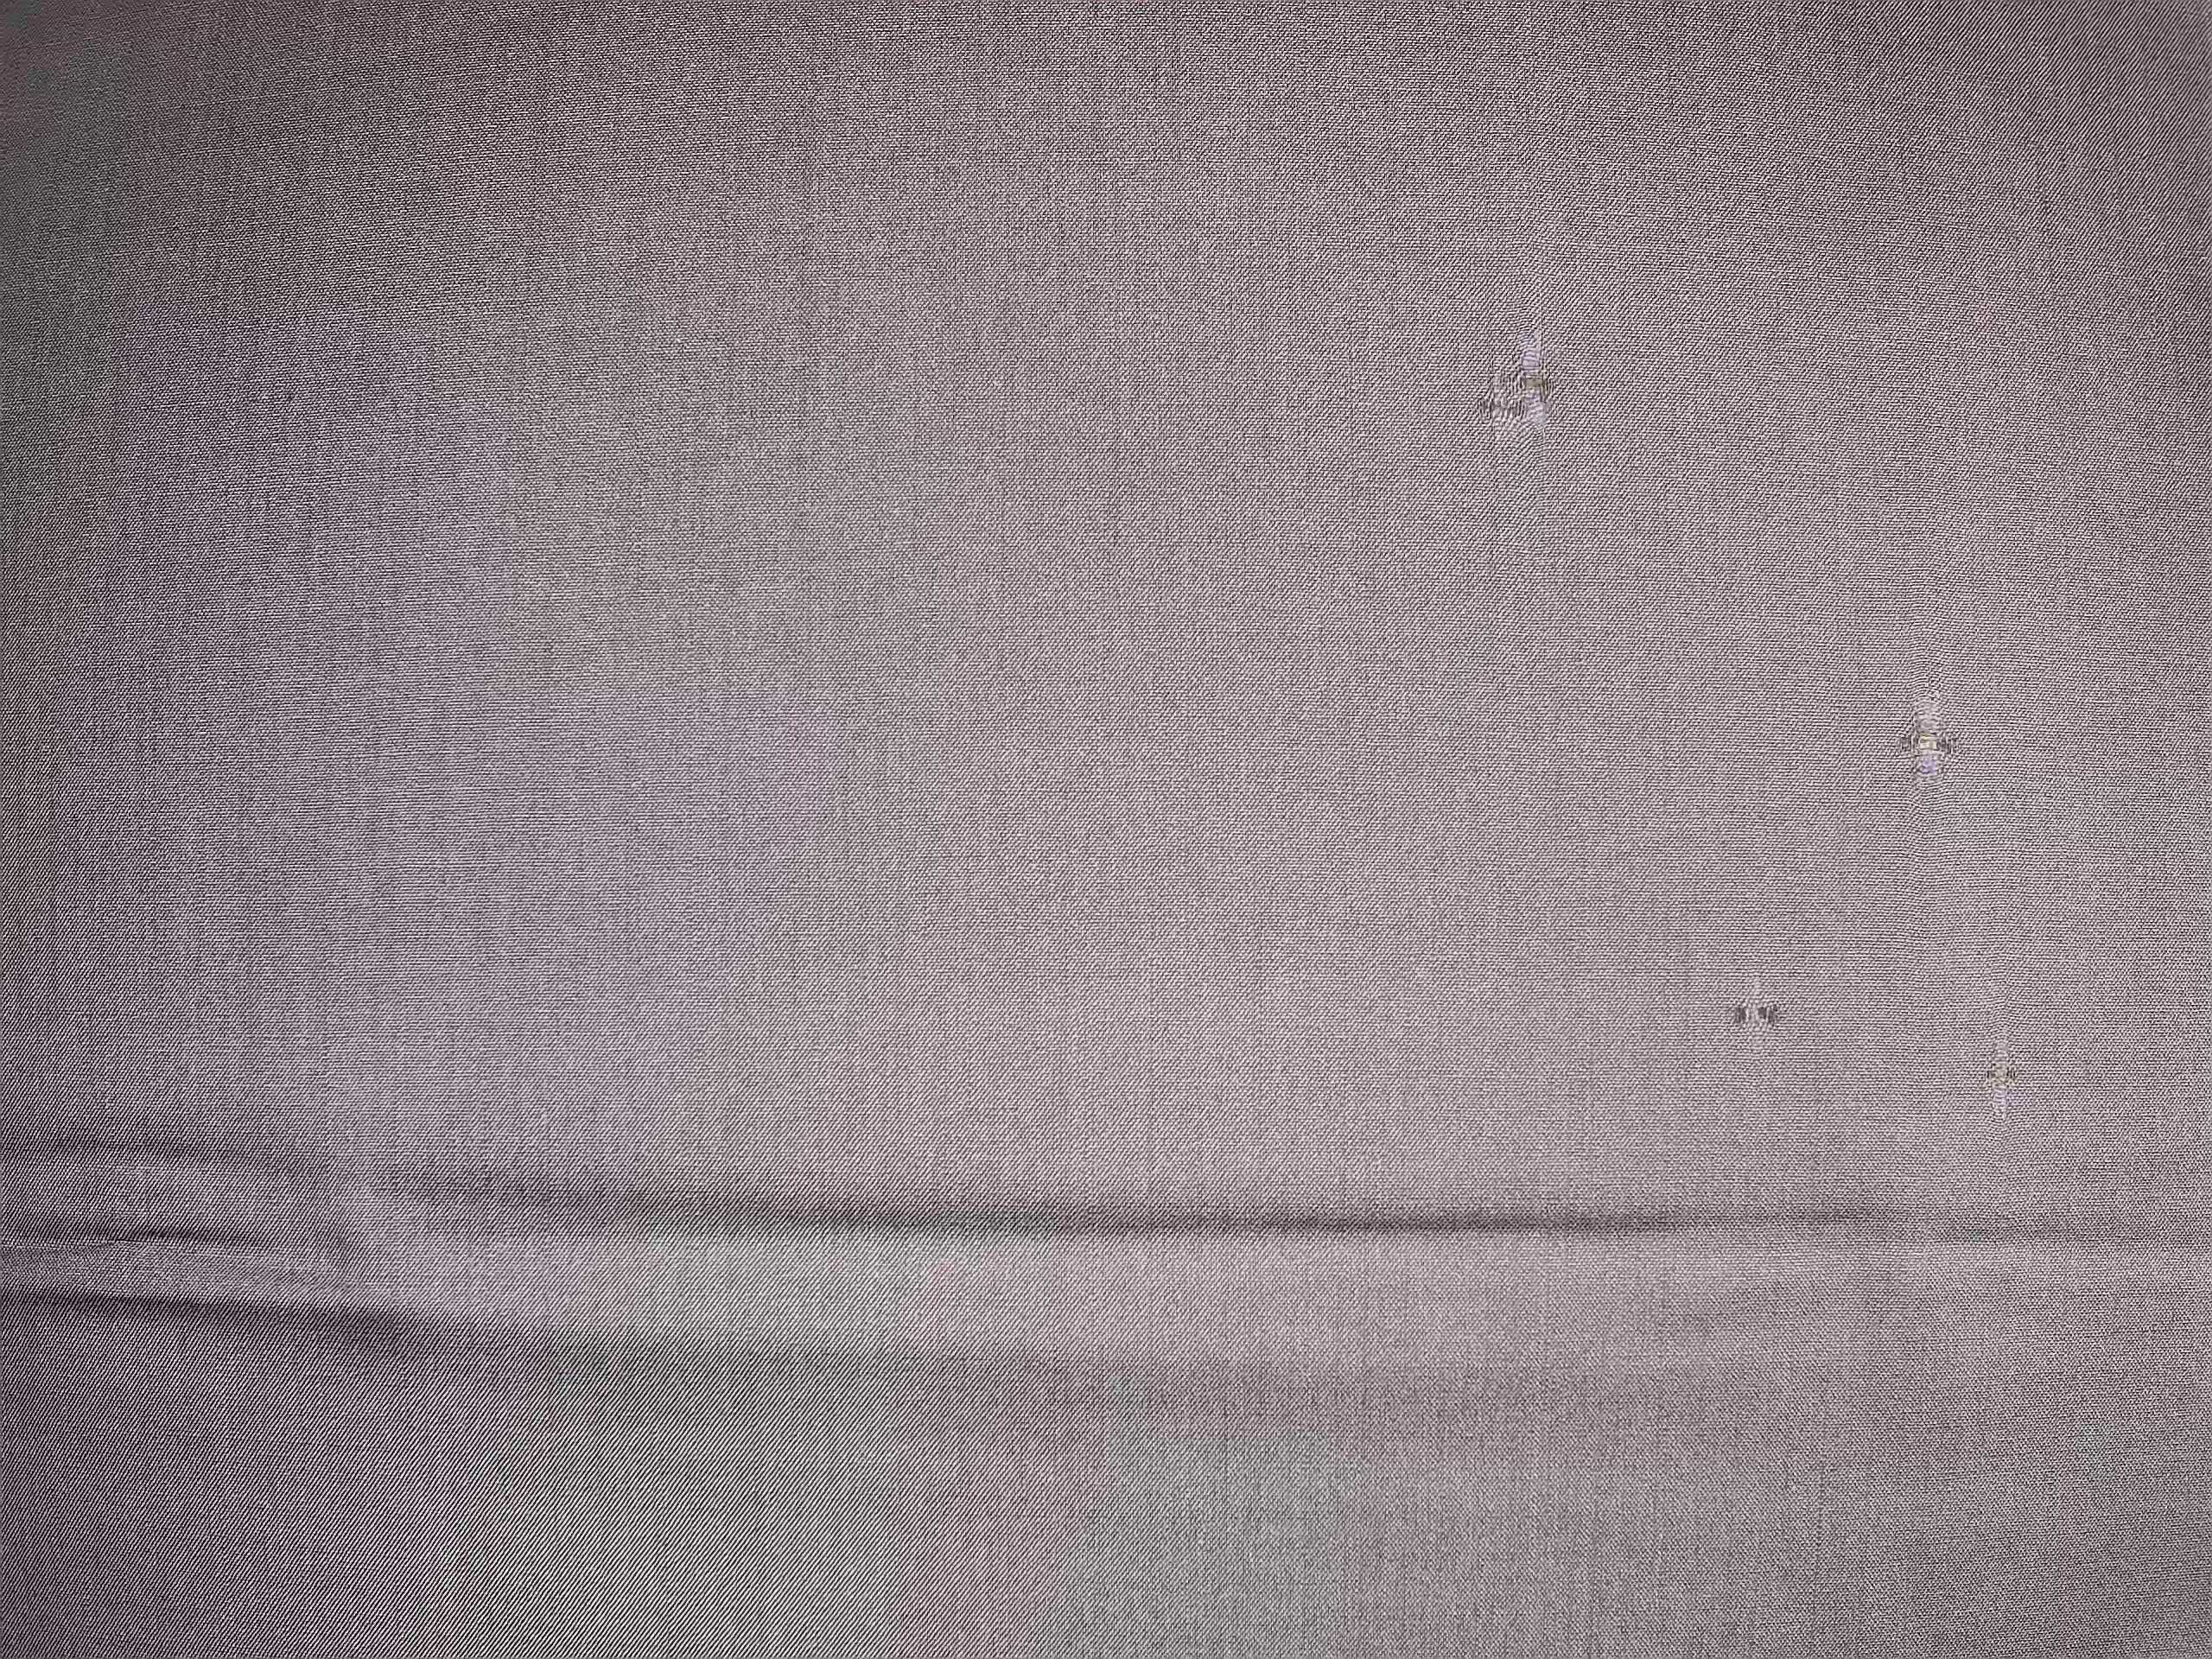brushed-hole: (1465, 303, 1583, 448), (1888, 617, 1977, 807), (1707, 971, 1815, 1051), (1973, 985, 2033, 1129)
